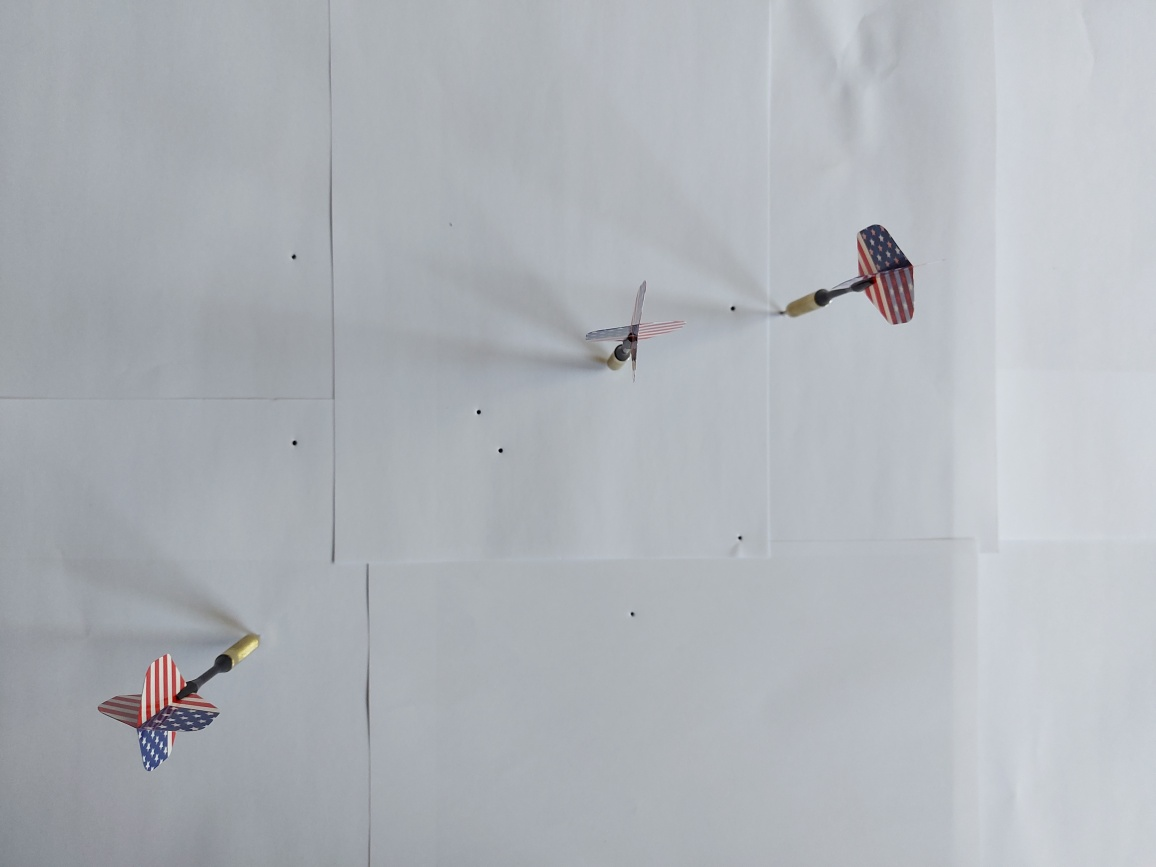Dart: (91, 623, 272, 770), (771, 215, 936, 338), (575, 273, 689, 391)
